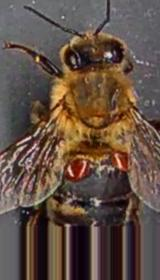varroa_mite: (62, 152, 94, 188), (105, 145, 133, 174)
